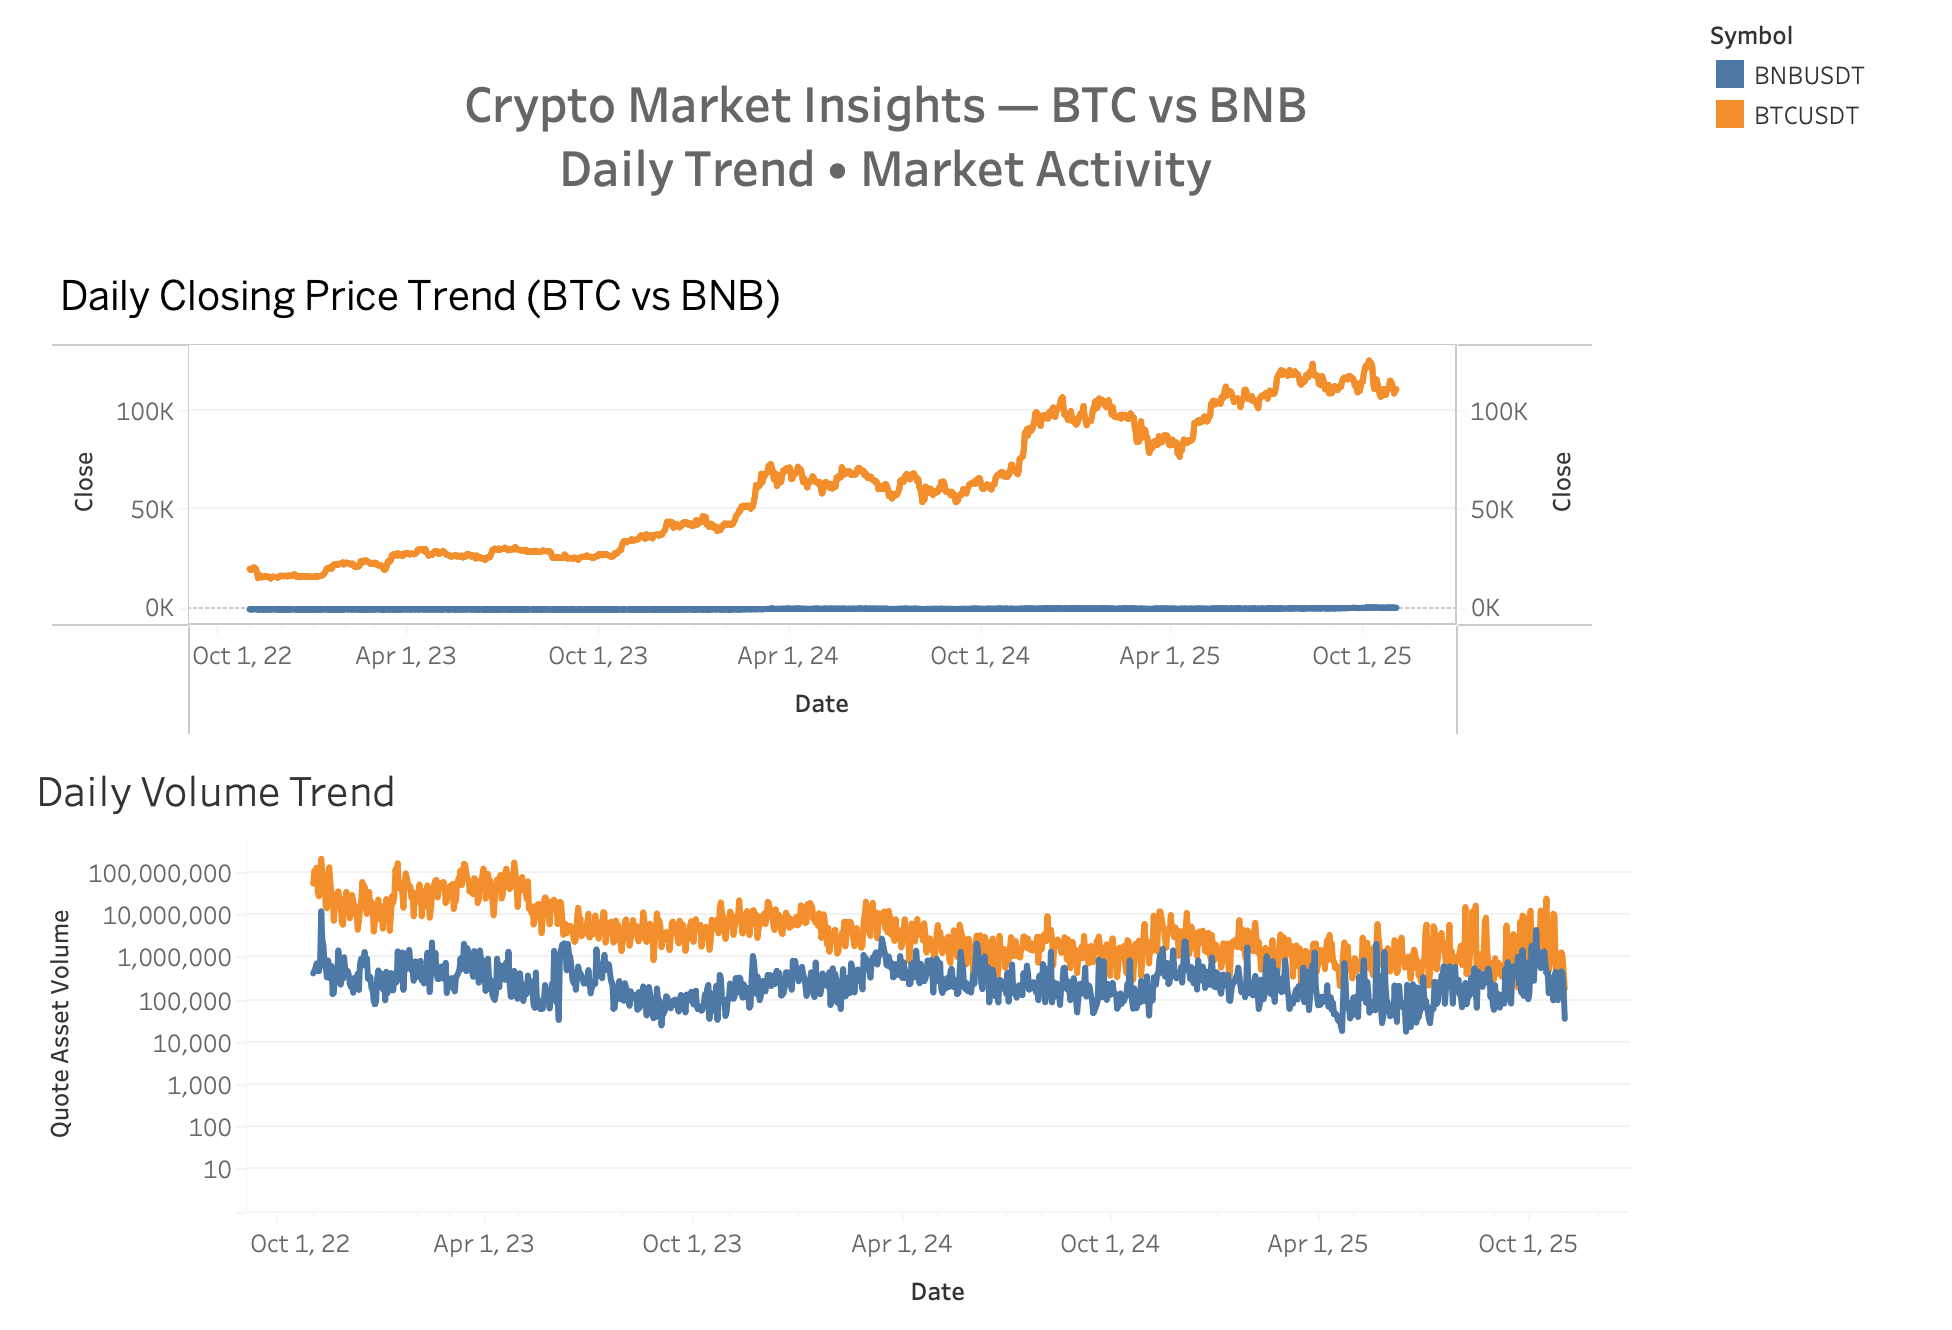

The page's visual inventory and layout, read from the dashboard file:
{"tool":"tableau","page":{"name":"Crypto Insights Dashboard","canvas":[1000,1000],"units":"permille","ordinal":0},"visuals":[{"type":"legend","title":"Daily Close Price Trend","param":"[federated.1twmwpy1vj9149163865i139et15].[none:symbol:nk]","box":[870.3,10,121.8,82.7]},{"type":"text","box":[87.6,18.2,731.6,114.4]},{"type":"worksheet","title":"Daily Close Price Trend","mark":"Automatic","rows":["close","close"],"cols":["d"],"box":[29.9,143.3,781.1,253.5]},{"type":"worksheet","title":"Daily Volume Trend","mark":"Automatic","rows":["quote_asset_volume"],"cols":["d"],"box":[18.4,406.4,811.1,303.7]}]}

Visuals, with their boxes on the dashboard's canvas, which has no fixed pixel size, in thousandths of its width and height (x1, y1, x2, y2). These are canvas units, not pixel positions in the 1952x1330 screenshot, which may show the page scaled, cropped or inside an application window:
"Daily Close Price Trend" legend: Rect(870, 10, 992, 93)
text: Rect(88, 18, 819, 133)
"Daily Close Price Trend" worksheet: Rect(30, 143, 811, 397)
"Daily Volume Trend" worksheet: Rect(18, 406, 830, 710)
